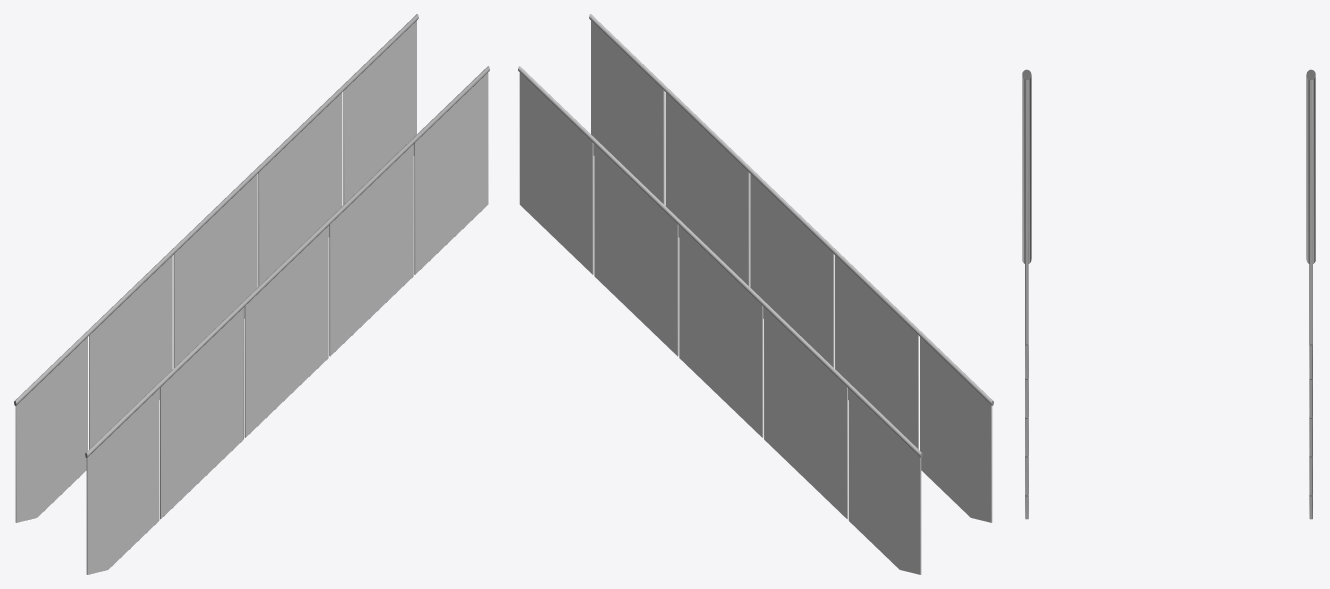
Rendered from Straight_Railing_Optik-Boss_Wood-Cap.gltf.
The picture shows the model from 3 angles, left to right: view 1: azimuth 30°, elevation 25°; view 2: azimuth 150°, elevation 25°; view 3: azimuth 270°, elevation 25°; orthographic projection. The views are drawn at different scales.
Parts seen in each view (by area): view 1: Box008, Box009, Generic Models 11 Generic Models 11 [8762451]008, Generic Models 11 Generic Models 11 [8762451]007; view 2: Box009, Box008, Generic Models 11 Generic Models 11 [8762451]007, Generic Models 11 Generic Models 11 [8762451]008; view 3: Box008, Box009, Generic Models 11 Generic Models 11 [8762451]007, Generic Models 11 Generic Models 11 [8762451]008.
Boxes of the visible parts, x1,y1,x2,y2 form: Box008: [86, 72, 488, 574]; Box009: [15, 21, 416, 522]; Generic Models 11 Generic Models 11 [8762451]008: [85, 66, 489, 457]; Generic Models 11 Generic Models 11 [8762451]007: [14, 14, 418, 405]; Box009: [519, 72, 921, 574]; Box008: [591, 21, 992, 522]; Generic Models 11 Generic Models 11 [8762451]007: [518, 66, 922, 457]; Generic Models 11 Generic Models 11 [8762451]008: [589, 14, 993, 405]; Box008: [1025, 80, 1028, 519]; Box009: [1309, 80, 1312, 519]; Generic Models 11 Generic Models 11 [8762451]007: [1306, 69, 1315, 263]; Generic Models 11 Generic Models 11 [8762451]008: [1022, 69, 1031, 263].
Size of the model in its own units: 3.79 by 3.7 by 1.2.
